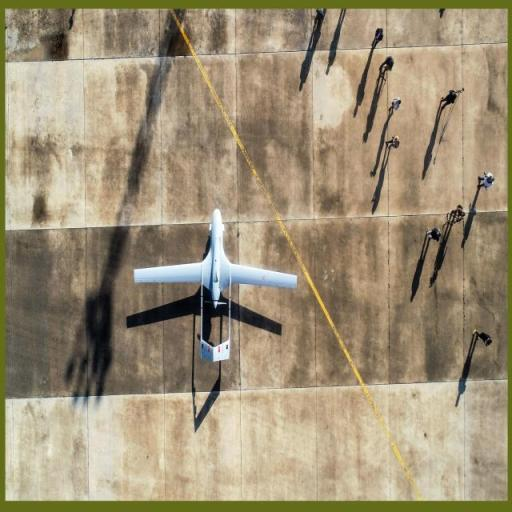uav: (130, 194, 300, 370)
